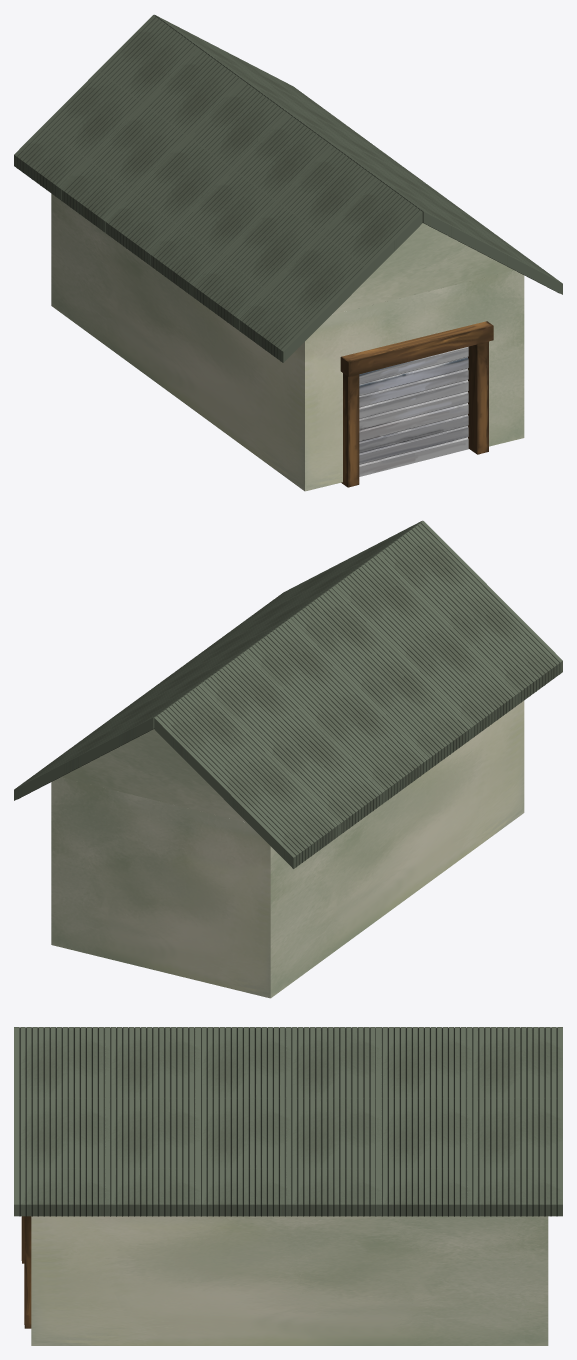
Rendered from Nha 12.fbx.
The picture shows the model from 3 angles, top to bottom: view 1: azimuth 30°, elevation 25°; view 2: azimuth 150°, elevation 25°; view 3: azimuth 270°, elevation 25°; orthographic projection.
Parts seen in each view (by area): view 1: Plane.027; view 2: Plane.027; view 3: Plane.027.
Boxes of the visible parts, x1,y1,x2,y2 form: Plane.027: (14,14,562,491); Plane.027: (14,520,562,998); Plane.027: (14,1027,562,1345).
Bounding box in the file's own units: 1120 × 1003 × 1869.
